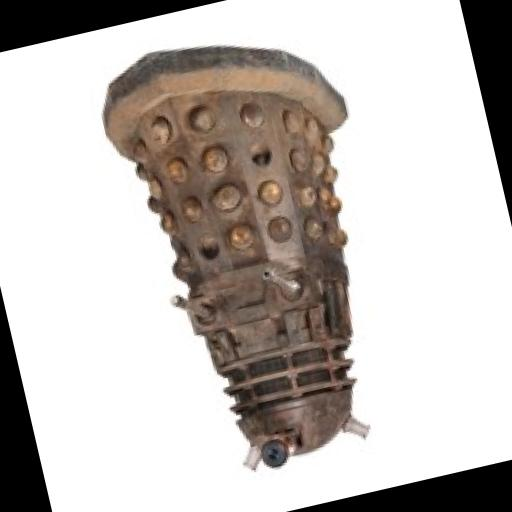dalek: (82, 10, 426, 496)
